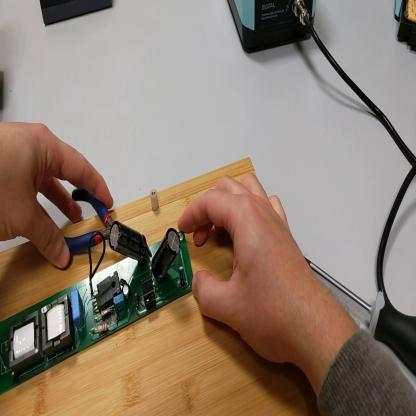hand: (180, 170, 310, 367), (2, 119, 113, 272)
high voltage board: (2, 223, 194, 398)
pliers: (60, 193, 153, 264)
screwdriver-: (303, 255, 416, 378)
welder base: (394, 3, 416, 55)
welder station: (231, 2, 317, 57)
working area: (4, 158, 322, 416)
